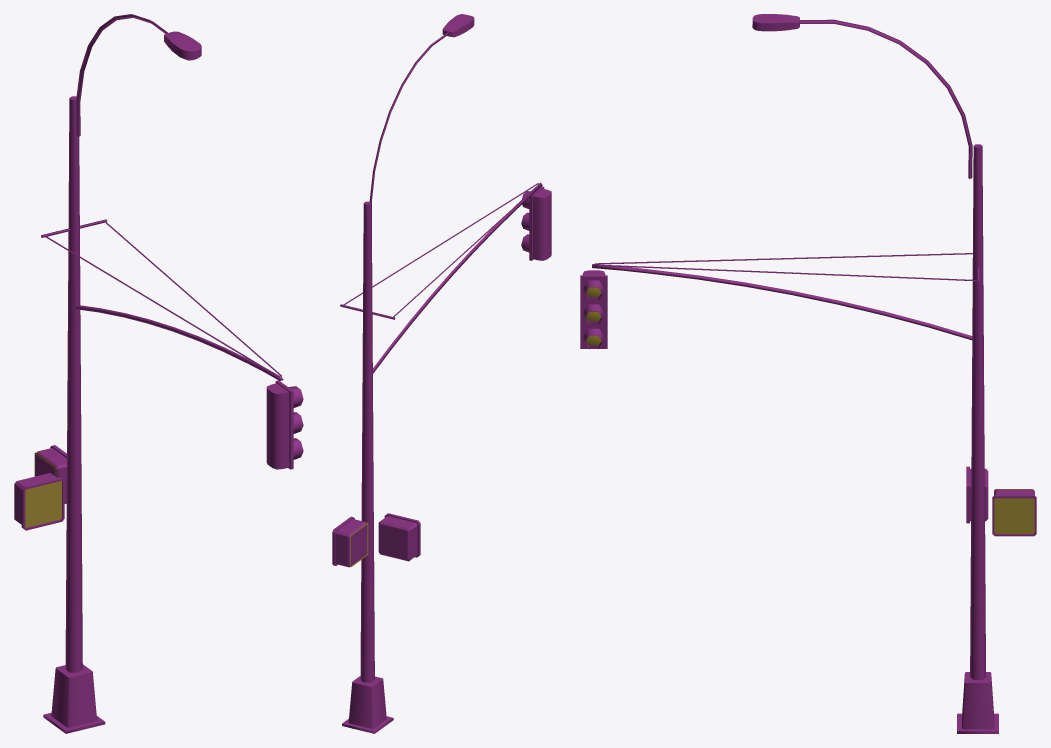
Rendered from mcp_traffic_lights_01_LOD_1.FBX.
The picture shows the model from 3 angles, left to right: view 1: azimuth 30°, elevation 25°; view 2: azimuth 150°, elevation 25°; view 3: azimuth 270°, elevation 25°; orthographic projection. The views are drawn at different scales.
Parts seen in each view (by area): view 1: mcp_traffic_lights_01, Object223, mcp_traffic_lights_01_lights_b; view 2: mcp_traffic_lights_01, Object223; view 3: mcp_traffic_lights_01, mcp_traffic_lights_01_lights_b, Object223.
Boxes of the visible parts, <box> form: mcp_traffic_lights_01: <box>41,14,303,733</box>; Object223: <box>14,445,66,530</box>; mcp_traffic_lights_01_lights_b: <box>25,481,61,527</box>; mcp_traffic_lights_01: <box>340,14,551,733</box>; Object223: <box>332,513,420,567</box>; mcp_traffic_lights_01: <box>580,14,998,733</box>; mcp_traffic_lights_01_lights_b: <box>994,498,1034,533</box>; Object223: <box>966,466,1036,536</box>.
Bounding box in the file's own units: 149 × 1204 × 705.
